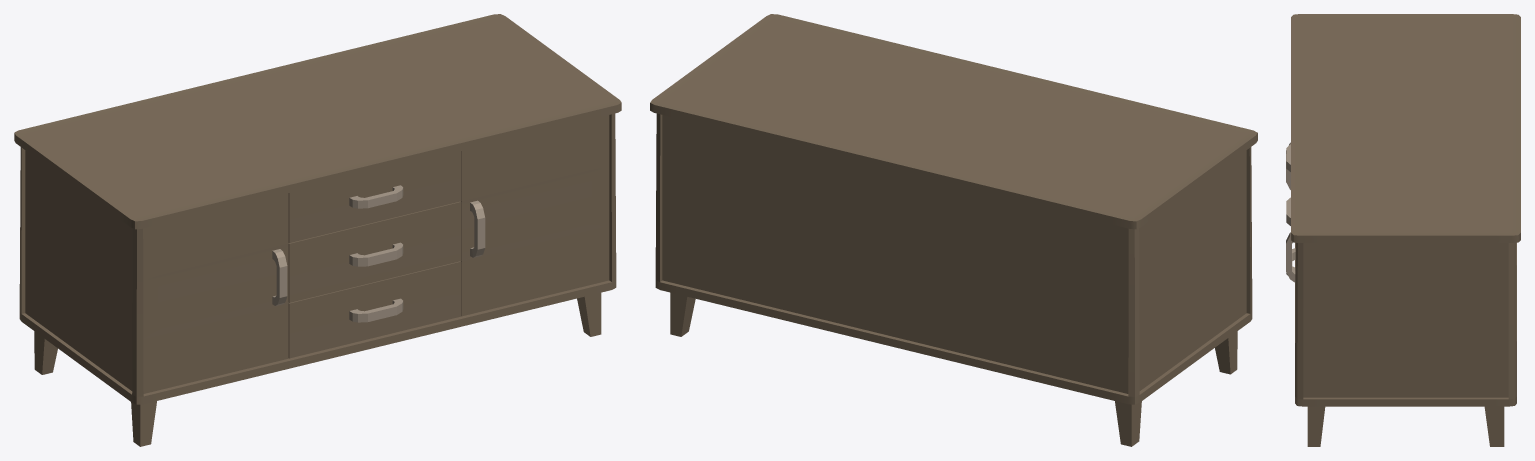
Rendered from meuble.fbx.
3 views of the same model, side by side, from view 1: azimuth 30°, elevation 25°; view 2: azimuth 150°, elevation 25°; view 3: azimuth 270°, elevation 25° (orthographic). The views are drawn at different scales.
Visible parts, largest first — view 1: meuble1:meuble; view 2: meuble1:meuble; view 3: meuble1:meuble.
Part boxes in pixels (box(x1,y1,x2,y2)): meuble1:meuble: box(14, 14, 621, 446); meuble1:meuble: box(650, 14, 1257, 446); meuble1:meuble: box(1286, 14, 1520, 446).
Size of the model in its own units: 8.47 by 3.88 by 3.79.
